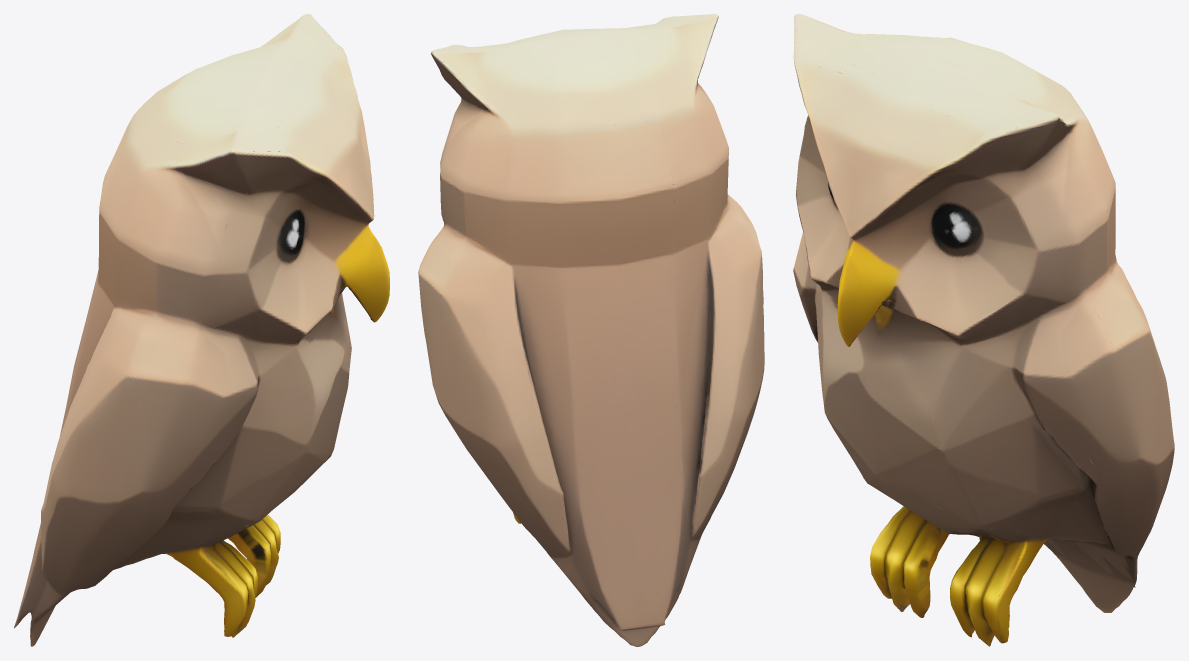
Rendered from LowPolyOwl.fbx.
3 views of the same model, side by side, from view 1: azimuth 30°, elevation 25°; view 2: azimuth 150°, elevation 25°; view 3: azimuth 270°, elevation 25° (orthographic). The views are drawn at different scales.
Parts seen in each view (by area): view 1: model; view 2: model; view 3: model.
Part boxes in pixels (x1,y1,x2,y2): model: (14,14,389,646); model: (418,14,764,646); model: (793,14,1174,646).
Bounding box in the file's own units: 163 × 299 × 164.
